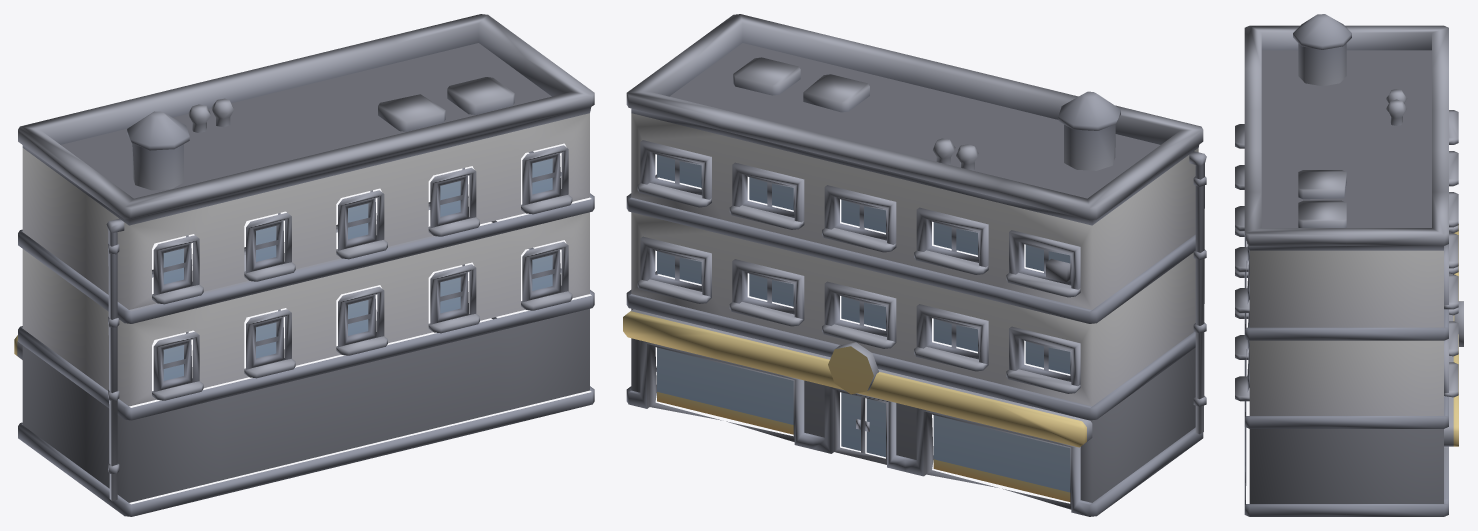
3 renders of one model, left to right at view 1: azimuth 30°, elevation 25°; view 2: azimuth 150°, elevation 25°; view 3: azimuth 270°, elevation 25°, orthographic. The views are drawn at different scales.
Bounding box in the file's own units: 16.64 × 11.76 × 7.54.
